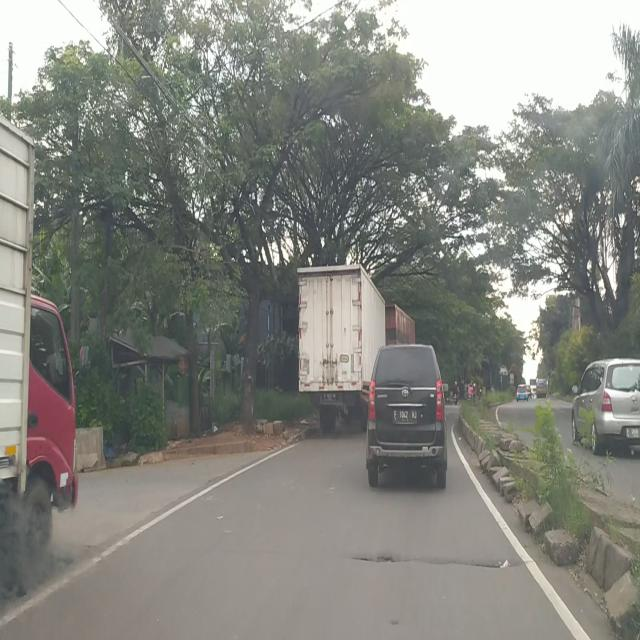Sewer Cover: (348, 552, 512, 568)
